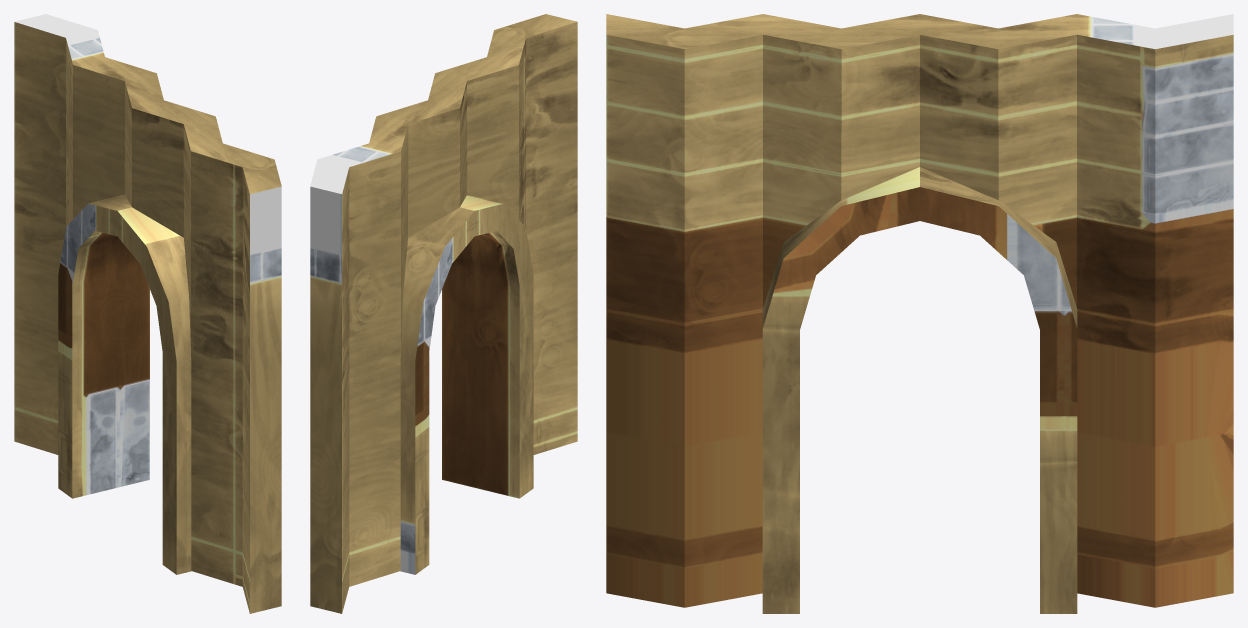
Rendered from metalDoor.fbx.
The picture shows the model from 3 angles, left to right: view 1: azimuth 30°, elevation 25°; view 2: azimuth 150°, elevation 25°; view 3: azimuth 270°, elevation 25°; orthographic projection. The views are drawn at different scales.
Visible parts, largest first — view 1: Cube.209; view 2: Cube.209; view 3: Cube.209.
Part boxes in pixels (x1,y1,x2,y2): Cube.209: (14, 14, 281, 613); Cube.209: (310, 14, 577, 613); Cube.209: (606, 14, 1233, 613).
Bounding box in the file's own units: 37.96 × 197 × 200.
